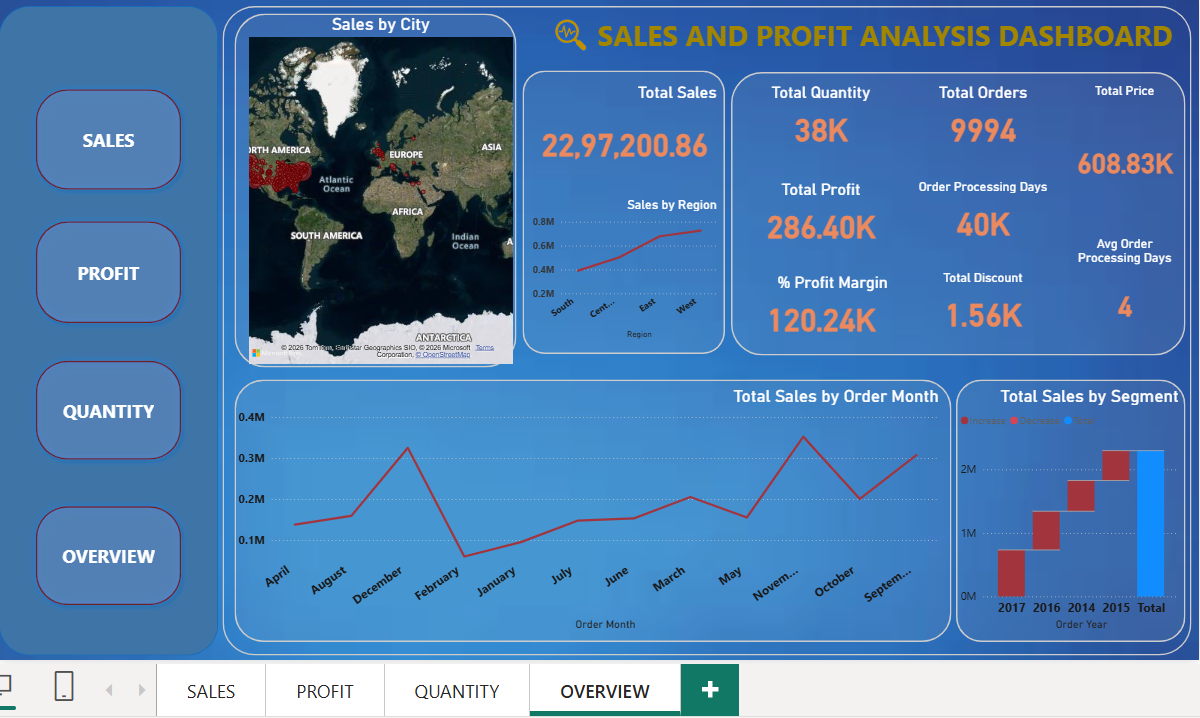

Layout of this report page (visuals, bound fields, positions):
{"tool":"powerbi","page":{"name":"OVERVIEW","canvas":[1600,880],"ordinal":3},"visuals":[{"type":"shape","box":[0,8,292,866],"z":0},{"type":"shape","box":[298,8,1292,866],"z":1000},{"type":"shape","box":[314,18,376,472],"z":2000},{"type":"shape","box":[314,506,956,350],"z":3000},{"type":"shape","box":[1276,506,306,350],"z":4000},{"type":"shape","box":[698,94,270,378],"z":5000},{"type":"shape","box":[976,96,606,378],"z":6000},{"type":"textbox","box":[690,16,880,62],"z":8000},{"type":"lineChart","title":"Sales by Region","fields":{"Y":["Sum(Sheet1.Sales)"],"Category":["Sheet1.Region"]},"box":[706,262,256,194],"z":9000},{"type":"card","title":"Total Sales","fields":{"Values":["Sheet1.Total Sales"]},"box":[706,110,256,134],"z":10000},{"type":"map","title":"Sales by City","fields":{"Category":["Sheet1.City"],"Size":["Sum(Sheet1.Sales)"]},"box":[328,18,362,472],"z":11000},{"type":"lineChart","title":"Total Sales by Order Month","fields":{"Y":["Sum(Sheet1.Sales)"],"Category":["Sheet1.Order Month"]},"box":[314,514,944,330],"z":12000},{"type":"waterfallChart","title":"Total Sales by Segment","fields":{"Y":["Sum(Sheet1.Sales)"],"Category":["Sheet1.Order Year"]},"box":[1276,514,302,330],"z":13000},{"type":"card","title":"Total Quantity","fields":{"Values":["Sheet1.Total Quantity"]},"box":[1002,110,188,92],"z":15000},{"type":"shape","box":[40,110,212,152],"z":19000},{"type":"shape","box":[40,286,212,154],"z":20000},{"type":"shape","box":[40,472,212,150],"z":21000},{"type":"shape","box":[40,666,212,150],"z":22000},{"type":"image","title":"Total Sales","box":[726,18,74,58],"z":23000},{"type":"card","title":"Total Profit","fields":{"Values":["Sum(Sheet1.Profit)"]},"box":[1002,240,188,92],"z":23001},{"type":"card","title":"% Profit Margin","fields":{"Values":["Sum(Sheet1.Profit Margin%)"]},"box":[1002,364,188,92],"z":23002},{"type":"card","title":"Total Orders","fields":{"Values":["Sheet1.Total Orders"]},"box":[1218,110,188,92],"z":23003},{"type":"card","title":"Order Processing Days","fields":{"Values":["Sum(Sheet1.Order Processing days)"]},"box":[1218,238,188,92],"z":23004},{"type":"card","title":"Total Discount","fields":{"Values":["Sum(Sheet1.Discount)"]},"box":[1218,360,188,92],"z":23005},{"type":"card","title":"Total Price","fields":{"Values":["Sum(Sheet1.Price)"]},"box":[1424,110,154,190],"z":23006},{"type":"card","title":"Avg Order Processing Days","fields":{"Values":["Sheet1.Avg Order Processing Days"]},"box":[1424,314,154,142],"z":23007}]}

Visuals, with their boxes on the page's 1600x880 design canvas (x1, y1, x2, y2). These are canvas units, not pixel positions in the 1200x718 screenshot, which may show the page scaled, cropped or inside an application window:
shape: l=0, t=8, r=292, b=874
shape: l=298, t=8, r=1590, b=874
shape: l=314, t=18, r=690, b=490
shape: l=314, t=506, r=1270, b=856
shape: l=1276, t=506, r=1582, b=856
shape: l=698, t=94, r=968, b=472
shape: l=976, t=96, r=1582, b=474
textbox: l=690, t=16, r=1570, b=78
"Sales by Region" lineChart: l=706, t=262, r=962, b=456
"Total Sales" card: l=706, t=110, r=962, b=244
"Sales by City" map: l=328, t=18, r=690, b=490
"Total Sales by Order Month" lineChart: l=314, t=514, r=1258, b=844
"Total Sales by Segment" waterfallChart: l=1276, t=514, r=1578, b=844
"Total Quantity" card: l=1002, t=110, r=1190, b=202
shape: l=40, t=110, r=252, b=262
shape: l=40, t=286, r=252, b=440
shape: l=40, t=472, r=252, b=622
shape: l=40, t=666, r=252, b=816
"Total Sales" image: l=726, t=18, r=800, b=76
"Total Profit" card: l=1002, t=240, r=1190, b=332
"% Profit Margin" card: l=1002, t=364, r=1190, b=456
"Total Orders" card: l=1218, t=110, r=1406, b=202
"Order Processing Days" card: l=1218, t=238, r=1406, b=330
"Total Discount" card: l=1218, t=360, r=1406, b=452
"Total Price" card: l=1424, t=110, r=1578, b=300
"Avg Order Processing Days" card: l=1424, t=314, r=1578, b=456
